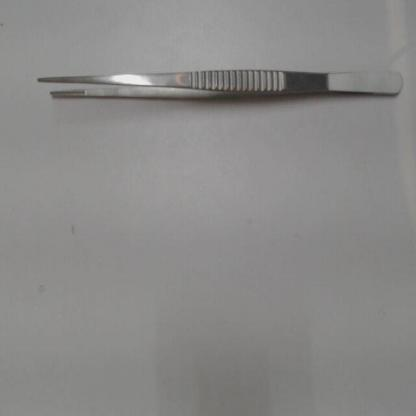DeBakey Dissector: (30, 62, 405, 112)
